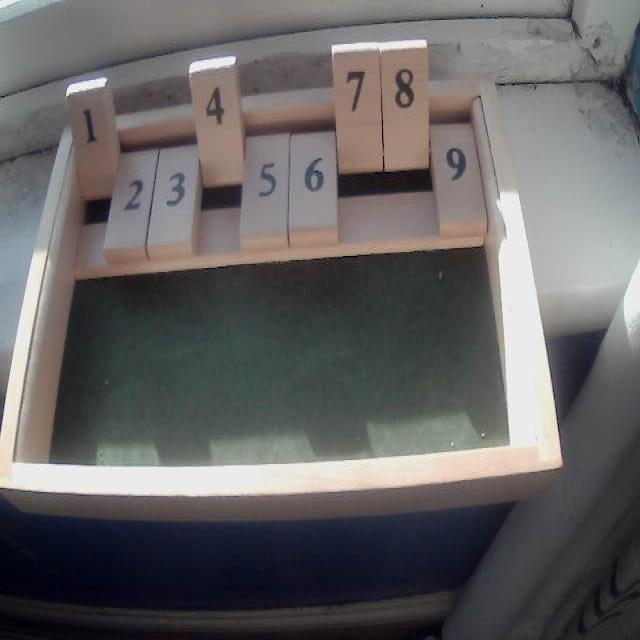C2: (106, 110, 150, 262)
C3: (150, 106, 194, 259)
C5: (243, 92, 290, 253)
C6: (291, 89, 340, 247)
C9: (433, 80, 485, 242)
O1: (65, 77, 109, 269)
O4: (189, 55, 239, 261)
O7: (332, 42, 386, 245)
O8: (382, 40, 431, 239)
